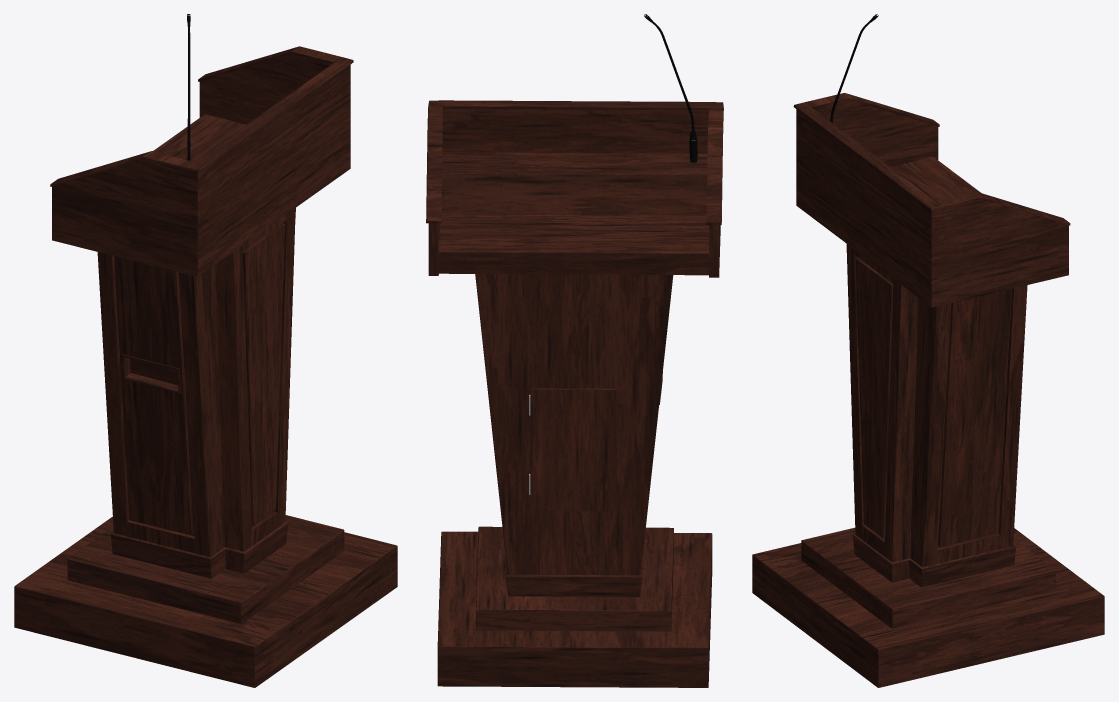
The model's file is lectern.fbx.
3 views of the same model, side by side, from view 1: azimuth 30°, elevation 25°; view 2: azimuth 150°, elevation 25°; view 3: azimuth 270°, elevation 25° (orthographic). The views are drawn at different scales.
Parts seen in each view (by area): view 1: Podium_1; view 2: Podium_1; view 3: Podium_1.
Part boxes in pixels (x1=…): Podium_1: x1=14, y1=14, x2=397, y2=687; Podium_1: x1=426, y1=14, x2=723, y2=687; Podium_1: x1=752, y1=14, x2=1104, y2=687.
Size of the model in its own units: 81.34 by 148 by 81.44.
